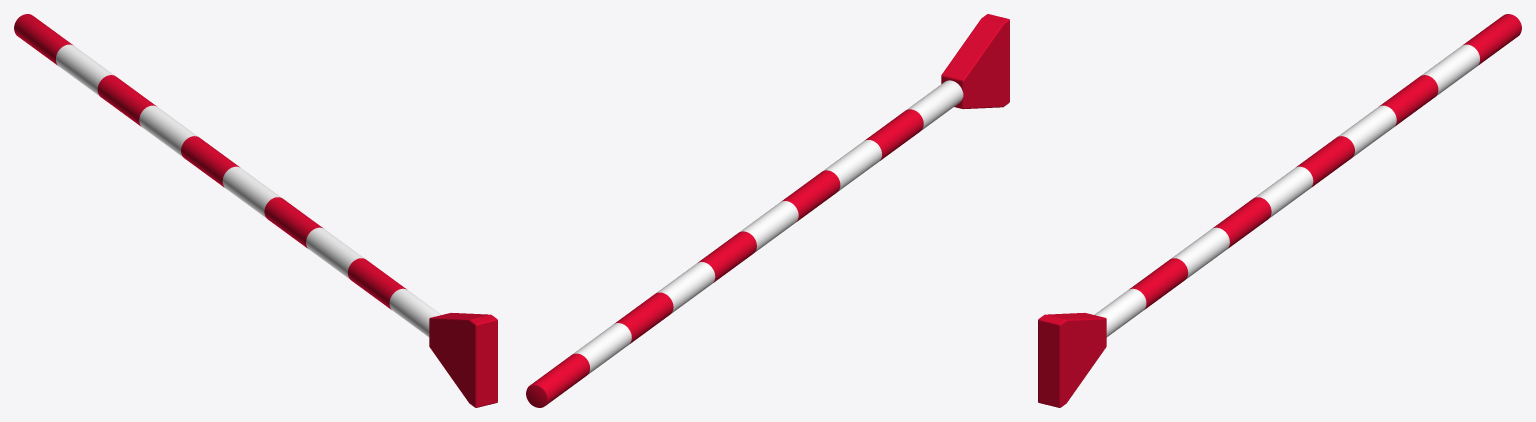
File: gatestick.fbx
3 renders of one model, left to right at view 1: azimuth 30°, elevation 25°; view 2: azimuth 150°, elevation 25°; view 3: azimuth 330°, elevation 25°, orthographic.
Parts seen in each view (by area): view 1: Cylinder; view 2: Cylinder; view 3: Cylinder.
Part boxes in pixels (x1,y1,x2,y2): Cylinder: [14, 14, 497, 407]; Cylinder: [526, 14, 1009, 407]; Cylinder: [1038, 14, 1521, 407].
Size of the model in its own units: 5.22 by 18.32 by 183.
